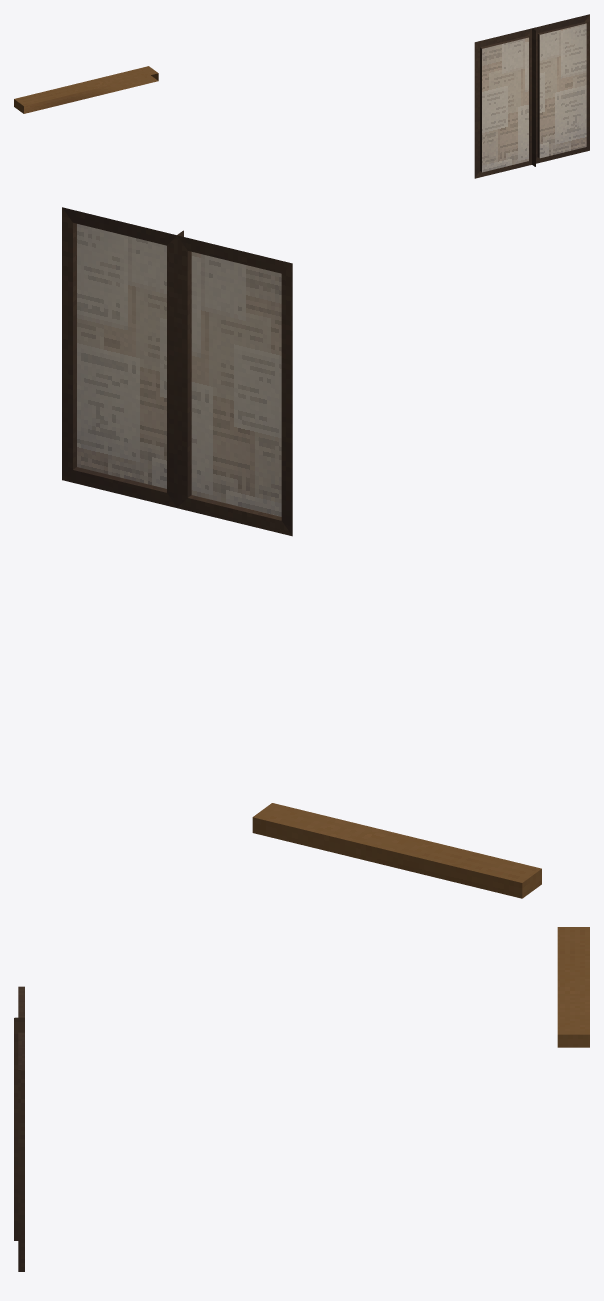
Rendered from obnova.fbx.
3 renders of one model, top to bottom at view 1: azimuth 30°, elevation 25°; view 2: azimuth 150°, elevation 25°; view 3: azimuth 270°, elevation 25°, orthographic. The views are drawn at different scales.
Parts seen in each view (by area): view 1: Window.001, Window, Shelf; view 2: Window.001, Window, Shelf; view 3: Shelf, Window, Window.001.
Boxes of the visible parts, bbox=[...] form: Window.001: bbox=[474, 28, 535, 178]; Window: bbox=[532, 14, 589, 166]; Shelf: bbox=[14, 66, 158, 113]; Window.001: bbox=[177, 230, 292, 536]; Window: bbox=[62, 207, 183, 507]; Shelf: bbox=[252, 803, 541, 898]; Shelf: bbox=[557, 927, 589, 1047]; Window: bbox=[15, 1017, 24, 1271]; Window.001: bbox=[14, 986, 24, 1240].
Bounding box in the file's own units: 312 × 101 × 237.
